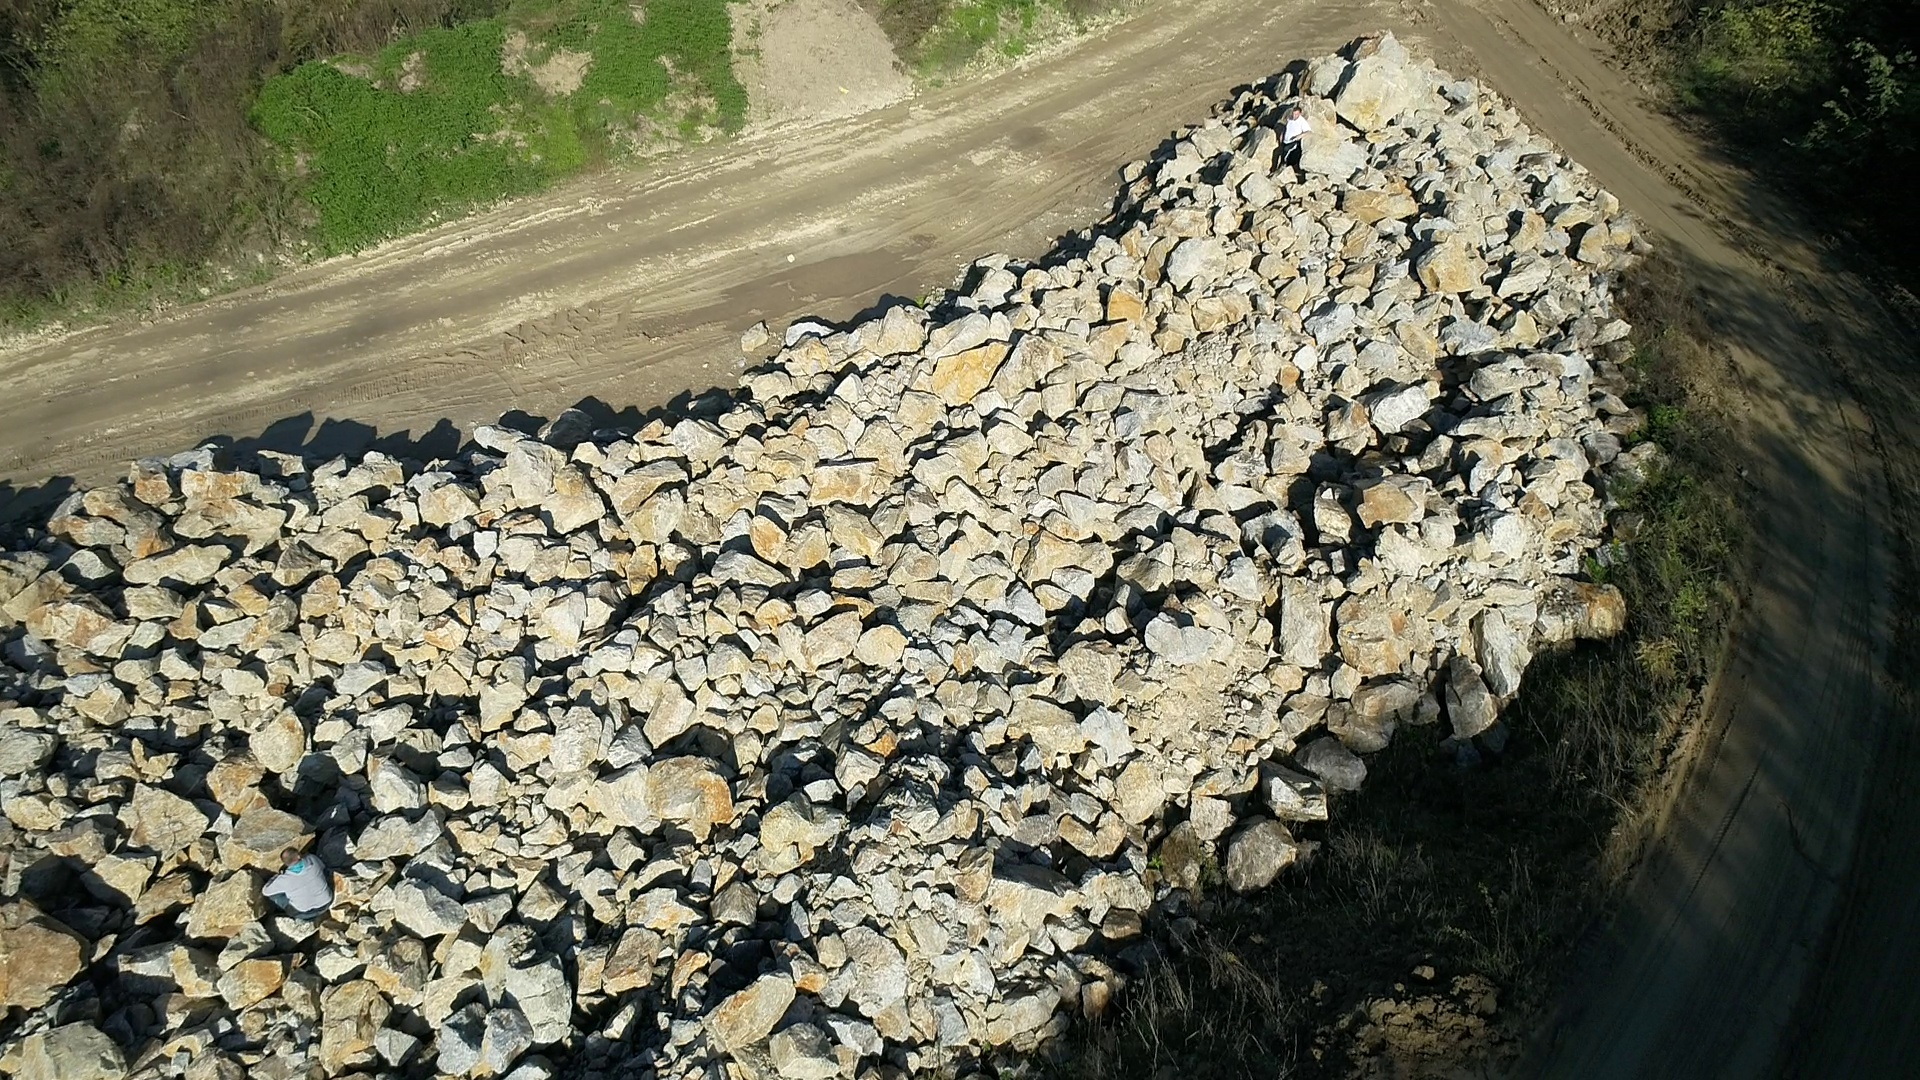person: (261, 846, 333, 920), (1280, 107, 1313, 167)
